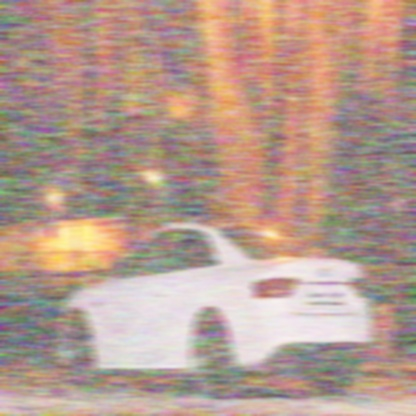Vehicle: (60, 220, 374, 400)
